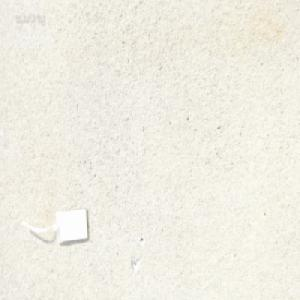LuggageTag: (21, 204, 90, 246)
